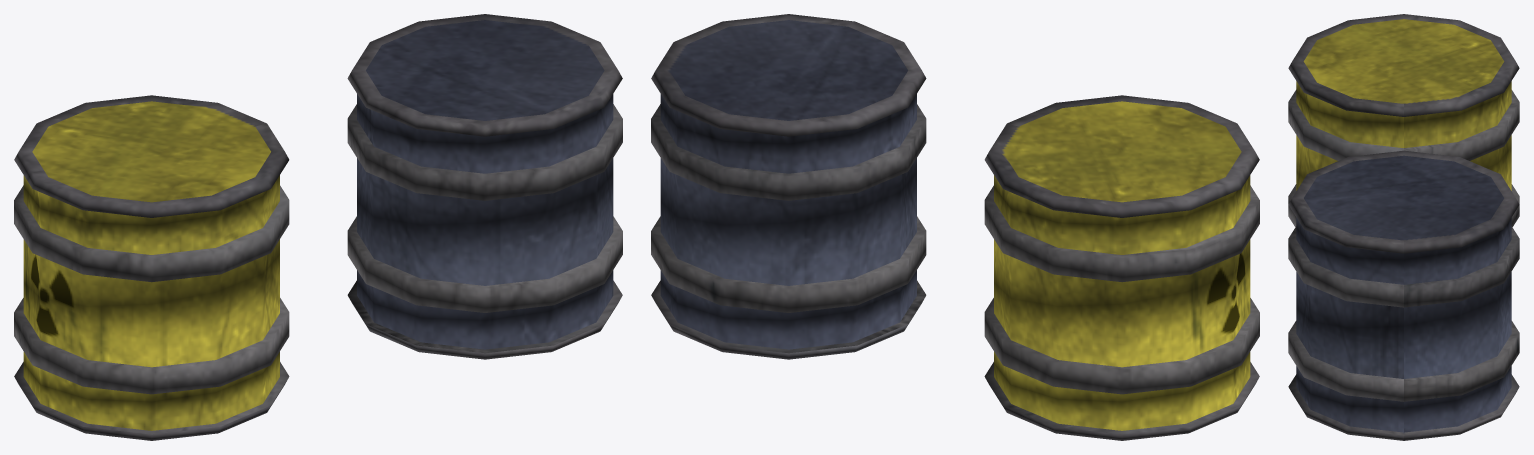
File: Barrels.glb
3 renders of one model, left to right at view 1: azimuth 30°, elevation 25°; view 2: azimuth 150°, elevation 25°; view 3: azimuth 270°, elevation 25°, orthographic. The views are drawn at different scales.
Visible parts, largest first — view 1: Barrel, RadioactiveWasteBarrel; view 2: Barrel, RadioactiveWasteBarrel; view 3: RadioactiveWasteBarrel, Barrel.
Boxes of the visible parts, x1,y1,x2,y2 form: Barrel: (14, 95, 289, 440); RadioactiveWasteBarrel: (347, 14, 622, 359); Barrel: (984, 95, 1259, 440); RadioactiveWasteBarrel: (651, 14, 926, 359); RadioactiveWasteBarrel: (1288, 150, 1519, 440); Barrel: (1288, 14, 1519, 226).
Size of the model in its own units: 5.15 by 2 by 2.15.
1 material, 1 textured.
